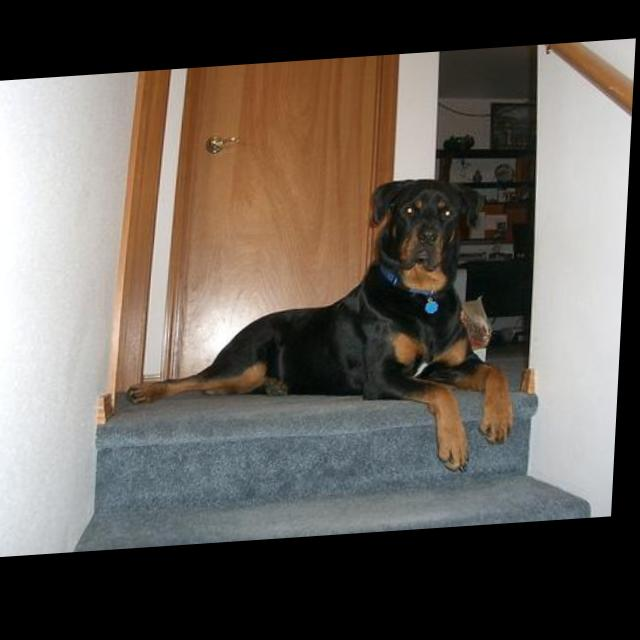rottweiler: (126, 178, 535, 498)
